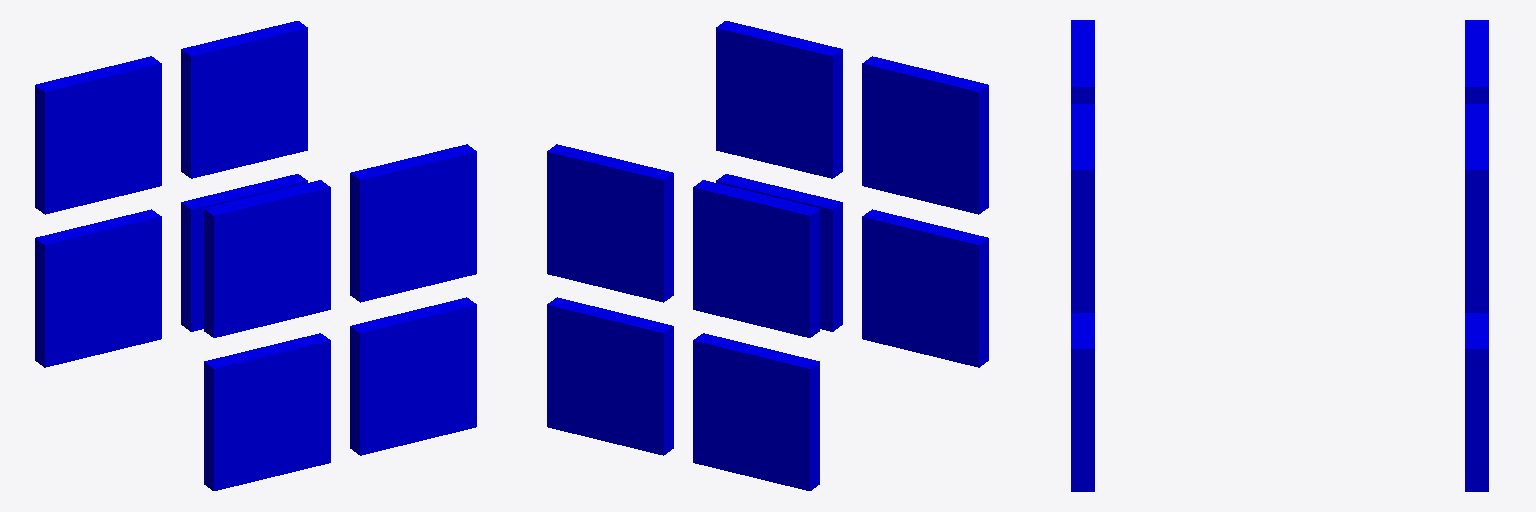
URDF robot description (vx300):
<?xml version="1.0" ?>
<!-- =================================================================================== -->
<!-- |    This document was autogenerated by xacro from vx300.urdf.xacro               | -->
<!-- |    EDITING THIS FILE BY HAND IS NOT RECOMMENDED                                 | -->
<!-- =================================================================================== -->
<robot name="vx300">
  <!-- <material name="interbotix_black">
    <texture filename="meshes/interbotix_black.png"/>
  </material> -->
  <link name="vx300/base_link">
    <visual>
      <origin rpy="0 0 1.5707963267948966" xyz="0 0 0"/>
      <geometry>
        <mesh filename="meshes/vx300_meshes/vx300_1_base.stl" scale="0.001 0.001 0.001"/>
      </geometry>
    </visual>
    <collision>
      <origin rpy="0 0 1.5707963267948966" xyz="0 0 0"/>
      <geometry>
        <mesh filename="meshes/vx300_meshes/vx300_1_base.stl" scale="0.001 0.001 0.001"/>
      </geometry>
    </collision>
    <inertial>
      <origin rpy="0 0 1.5707963267948966" xyz="-0.0534774000 -0.0005625750 0.0205961000"/>
      <mass value="0.969034"/>
      <inertia ixx="0.0060240000" ixy="0.0000471300" ixz="0.0000038510" iyy="0.0017000000" iyz="-0.0000841500" izz="0.0071620000"/>
    </inertial>
  </link>
  <joint name="waist" type="revolute">
    <axis xyz="0 0 1"/>
    <limit effort="30" lower="-3.141582653589793" upper="3.141582653589793" velocity="3.141592653589793"/>
    <origin rpy="0 0 0" xyz="0 0 0.079"/>
    <parent link="vx300/base_link"/>
    <child link="vx300/shoulder_link"/>
    <dynamics friction="0.1"/>
  </joint>

  <link name="vx300/shoulder_link">
    <visual>
      <origin rpy="0 0 1.5707963267948966" xyz="0 0 -0.003"/>
      <geometry>
        <mesh filename="meshes/vx300_meshes/vx300_2_shoulder.stl" scale="0.001 0.001 0.001"/>
      </geometry>
    </visual>
    <collision>
      <origin rpy="0 0 1.5707963267948966" xyz="0 0 -0.003"/>
      <geometry>
        <mesh filename="meshes/vx300_meshes/vx300_2_shoulder.stl" scale="0.001 0.001 0.001"/>
      </geometry>
    </collision>
    <inertial>
      <origin rpy="0 0 1.5707963267948966" xyz="0.0002592330 -0.0000033552 0.0116129000"/>
      <mass value="0.798614"/>
      <inertia ixx="0.0009388000" ixy="-0.0000000010" ixz="-0.0000000191" iyy="0.0011380000" iyz="0.0000059568" izz="0.0012010000"/>
    </inertial>
  </link>
  <joint name="shoulder" type="revolute">
    <axis xyz="0 1 0"/>
    <limit effort="20" lower="-1.8500490071139892" upper="1.2566370614359172" velocity="3.141592653589793"/>
    <origin rpy="0 0 0" xyz="0 0 0.04805"/>
    <parent link="vx300/shoulder_link"/>
    <child link="vx300/upper_arm_link"/>
    <dynamics friction="0.1"/>
  </joint>
  <link name="vx300/upper_arm_link">
    <visual>
      <origin rpy="0 0 1.5707963267948966" xyz="0 0 0"/>
      <geometry>
        <mesh filename="meshes/vx300_meshes/vx300_3_upper_arm.stl" scale="0.001 0.001 0.001"/>
      </geometry>
    </visual>
    <collision>
      <origin rpy="0 0 1.5707963267948966" xyz="0 0 0"/>
      <geometry>
        <mesh filename="meshes/vx300_meshes/vx300_3_upper_arm.stl" scale="0.001 0.001 0.001"/>
      </geometry>
    </collision>
    <inertial>
      <origin rpy="0 0 1.5707963267948966" xyz="0.0206949000 0.0000000004 0.2264590000"/>
      <mass value="0.792592"/>
      <inertia ixx="0.0089250000" ixy="0.0000000000" ixz="0.0000000000" iyy="0.0089370000" iyz="0.0012010000" izz="0.0009357000"/>
    </inertial>
  </link>
  <joint name="elbow" type="revolute">
    <axis xyz="0 1 0"/>
    <limit effort="15" lower="-1.7627825445142729" upper="1.6057029118347832" velocity="3.141592653589793"/>
    <origin rpy="0 0 0" xyz="0.05955 0 0.3"/>
    <parent link="vx300/upper_arm_link"/>
    <child link="vx300/forearm_link"/>
    <dynamics friction="0.1"/>
  </joint>
  <link name="vx300/forearm_link">
    <visual>
      <origin rpy="0 0 1.5707963267948966" xyz="0 0 0"/>
      <geometry>
        <mesh filename="meshes/vx300_meshes/vx300_4_forearm.stl" scale="0.001 0.001 0.001"/>
      </geometry>
    </visual>
    <collision>
      <origin rpy="0 0 1.5707963267948966" xyz="0 0 0"/>
      <geometry>
        <mesh filename="meshes/vx300_meshes/vx300_4_forearm.stl" scale="0.001 0.001 0.001"/>
      </geometry>
    </collision>
    <inertial>
      <origin rpy="0 0 1.5707963267948966" xyz="0.1812650000 -0.0002065037 0.0000000000"/>
      <mass value="0.544659"/>
      <inertia ixx="0.0054470000" ixy="-0.0000119800" ixz="0.0000000000" iyy="0.0002267000" iyz="0.0000000000" izz="0.0055740000"/>
    </inertial>
  </link>
  <joint name="wrist_angle" type="revolute">
    <axis xyz="0 1 0"/>
    <limit effort="5" lower="-1.8675022996339325" upper="2.234021442552742" velocity="3.141592653589793"/>
    <origin rpy="0 0 0" xyz="0.3 0 0"/>
    <parent link="vx300/forearm_link"/>
    <child link="vx300/wrist_link"/>
    <dynamics friction="0.1"/>
  </joint>
  <link name="vx300/wrist_link">
    <visual>
      <origin rpy="0 0 1.5707963267948966" xyz="0 0 0"/>
      <geometry>
        <mesh filename="meshes/vx300_meshes/vx300_5_wrist.stl" scale="0.001 0.001 0.001"/>
      </geometry>
    </visual>
    <collision>
      <origin rpy="0 0 1.5707963267948966" xyz="0 0 0"/>
      <geometry>
        <mesh filename="meshes/vx300_meshes/vx300_5_wrist.stl" scale="0.001 0.001 0.001"/>
      </geometry>
    </collision>
    <inertial>
      <origin rpy="0 0 1.5707963267948966" xyz="0.0467430000 -0.0000076652 0.0105650000"/>
      <mass value="0.115395"/>
      <inertia ixx="0.0000463100" ixy="0.0000000195" ixz="0.0000000023" iyy="0.0000451400" iyz="0.0000042002" izz="0.0000527000"/>
    </inertial>
  </link>
  <joint name="wrist_rotate" type="revolute">
    <axis xyz="1 0 0"/>
    <limit effort="1" lower="-3.141582653589793" upper="3.141582653589793" velocity="3.141592653589793"/>
    <origin rpy="0 0 0" xyz="0.069744 0 0"/>
    <parent link="vx300/wrist_link"/>
    <child link="vx300/gripper_link"/>
    <dynamics friction="0.1"/>
  </joint>
  <link name="vx300/gripper_link">
    <visual>
      <origin rpy="0 0 1.5707963267948966" xyz="-0.02 0 0"/>
      <geometry>
        <mesh filename="meshes/vx300_meshes/vx300_6_gripper.stl" scale="0.001 0.001 0.001"/>
      </geometry>
    </visual>
    <collision>
      <origin rpy="0 0 1.5707963267948966" xyz="-0.02 0 0"/>
      <geometry>
        <mesh filename="meshes/vx300_meshes/vx300_6_gripper.stl" scale="0.001 0.001 0.001"/>
      </geometry>
    </collision>
    <inertial>
      <origin rpy="0 0 1.5707963267948966" xyz="0.0230010000 0.0000000000 0.0115230000"/>
      <mass value="0.097666"/>
      <inertia ixx="0.0000326800" ixy="0.0000000000" ixz="0.0000000000" iyy="0.0000243600" iyz="0.0000002785" izz="0.0000211900"/>
    </inertial>
  </link>
  <joint name="ee_arm" type="fixed">
    <axis xyz="1 0 0"/>
    <origin rpy="0 0 0" xyz="0.042825 0 0"/>
    <parent link="vx300/gripper_link"/>
    <child link="vx300/ee_arm_link"/>
  </joint>
  <link name="vx300/ee_arm_link">
    <inertial>
      <mass value="0.001"/>
      <inertia ixx="0.0001" ixy="0" ixz="0" iyy="0.0001" iyz="0" izz="0.0001"/>
    </inertial>
  </link>
  <joint name="gripper" type="fixed">
    <axis xyz="1 0 0"/>
    <limit effort="1" velocity="3.141592653589793"/>
    <origin rpy="0 0 0" xyz="0.005675 0 0"/>
    <parent link="vx300/ee_arm_link"/>
    <child link="vx300/gripper_prop_link"/>
    <dynamics friction="0.1"/>
  </joint>
  <link name="vx300/gripper_prop_link">
    <visual>
      <origin rpy="0 0 1.5707963267948966" xyz="-0.0685 0 0"/>
      <geometry>
        <mesh filename="meshes/vx300_meshes/vx300_7_gripper_prop.stl" scale="0.001 0.001 0.001"/>
      </geometry>
    </visual>
    <collision>
      <origin rpy="0 0 1.5707963267948966" xyz="-0.0685 0 0"/>
      <geometry>
        <mesh filename="meshes/vx300_meshes/vx300_7_gripper_prop.stl" scale="0.001 0.001 0.001"/>
      </geometry>
    </collision>
    <inertial>
      <origin rpy="0 0 1.5707963267948966" xyz="0.0023780000 0.0000000285 0.0000000000"/>
      <mass value="0.008009"/>
      <inertia ixx="0.0000020386" ixy="0.0000000000" ixz="0.0000006559" iyy="0.0000042979" iyz="0.0000000000" izz="0.0000023796"/>
    </inertial>
  </link>
  <!-- If the AR tag is being used, then add the AR tag mount -->
  <!-- If the gripper bar is being used, then also add the gripper bar -->
  <joint name="gripper_bar" type="fixed">
    <axis xyz="1 0 0"/>
    <origin rpy="0 0 0" xyz="0 0 0"/>
    <parent link="vx300/ee_arm_link"/>
    <child link="vx300/gripper_bar_link"/>
  </joint>
  <link name="vx300/gripper_bar_link">
    <visual>
      <origin rpy="0 0 1.5707963267948966" xyz="-0.063 0 0"/>
      <geometry>
        <mesh filename="meshes/vx300_meshes/vx300_8_gripper_bar.stl" scale="0.001 0.001 0.001"/>
      </geometry>
    </visual>
    <collision>
      <origin rpy="0 0 1.5707963267948966" xyz="-0.063 0 0"/>
      <geometry>
        <mesh filename="meshes/vx300_meshes/vx300_8_gripper_bar.stl" scale="0.001 0.001 0.001"/>
      </geometry>
    </collision>
    <inertial>
      <origin rpy="0 0 1.5707963267948966" xyz="0.0067940000 -0.0000004272 -0.0007760000"/>
      <mass value="0.150986"/>
      <inertia ixx="0.0000789500" ixy="-0.0000000012" ixz="0.0000001341" iyy="0.0003283000" iyz="0.0000017465" izz="0.0003095000"/>
    </inertial>
  </link>
  <joint name="ee_bar" type="fixed">
    <axis xyz="1 0 0"/>
    <origin rpy="0 0 0" xyz="0.025875 0 0"/>
    <parent link="vx300/gripper_bar_link"/>
    <child link="vx300/fingers_link"/>
  </joint>
  <link name="vx300/fingers_link">
    <inertial>
      <mass value="0.001"/>
      <inertia ixx="0.0001" ixy="0" ixz="0" iyy="0.0001" iyz="0" izz="0.0001"/>
    </inertial>
  </link>
  <!-- If the gripper fingers are being used, add those as well -->
  <joint name="left_finger" type="prismatic">
    <axis xyz="0 1 0"/>
    <limit effort="1" lower="0.021" upper="0.057" velocity="3.14"/>
    <origin rpy="0 0 0" xyz="0 0 0"/>
    <parent link="vx300/fingers_link"/>
    <child link="vx300/left_finger_link"/>
    <dynamics friction="0.1"/>
  </joint>
  <link name="vx300/left_finger_link">
    <visual>
      <origin rpy="1.5707963267948966 -3.141592653589793 1.5707963267948966" xyz="-0.0404 -0.0575 0"/>
      <geometry>
        <mesh filename="meshes/vx300_meshes/vx300_9_gripper_finger.stl" scale="0.001 0.001 0.001"/>
      </geometry>
    </visual>
    <collision>
      <origin rpy="1.5707963267948966 -3.141592653589793 1.5707963267948966" xyz="-0.0404 -0.0575 0"/>
      <geometry>
        <mesh filename="meshes/vx300_meshes/vx300_9_gripper_finger.stl" scale="0.001 0.001 0.001"/>
      </geometry>
    </collision>
    <inertial>
      <origin rpy="3.141592653589793 3.141592653589793 1.5707963267948966" xyz="0.0173440000 -0.0060692000 0.0000000000"/>
      <!-- <mass value="0.034796"/> -->
      <mass value="0.001"/>
      <inertia ixx="0.0000243300" ixy="-0.0000024004" ixz="0.0000000000" iyy="0.0000125500" iyz="0.0000000000" izz="0.0000141700"/>
    </inertial>
  </link>
  
  <!-- ====================================If the tactile sensors are being used, add those as well ======================================-->
  <joint name="left_tactile_1" type="fixed">
    <axis xyz="1 0 0"/>
    <origin rpy="0 0 1.5707" xyz="0 0 0"/>
    <parent link="vx300/left_finger_link"/>
    <child link="vx300/left_tactile_map_link1"/>
  </joint>
  <link name="vx300/left_tactile_map_link1">
    <visual>
      <origin rpy="0 0 0" xyz="-0.014 -0.045 -0.0125"/>
      <geometry>
        <box size="0.003001 0.02 0.02"/>
      </geometry>
      <material name="blue">
        <color rgba= "0 0 1 1"/>
      </material>
    </visual>
    <collision>
      <origin rpy="0 0 0" xyz="-0.014 -0.045 -0.0125"/>
      <geometry>
        <box size="0.003001 0.02 0.02"/>
      </geometry>
    </collision>
    <inertial>
      <origin rpy="3.141592653589793 3.141592653589793 1.5707963267948966" xyz="0.0173440000 -0.0060692000 0.0000000000"/>
      <!-- <mass value="0.034796"/> -->
      <mass value="0.0005"/>
      <inertia ixx="0.0000243300" ixy="-0.0000024004" ixz="0.0000000000" iyy="0.0000125500" iyz="0.0000000000" izz="0.0000141700"/>
    </inertial>
  </link>

  <joint name="left_tactile_2" type="fixed">
    <axis xyz="1 0 0"/>
    <origin rpy="0 0 1.5707" xyz="0 0 0"/>
    <parent link="vx300/left_finger_link"/>
    <child link="vx300/left_tactile_map_link2"/>
  </joint>
  <link name="vx300/left_tactile_map_link2">
    <visual>
      <origin rpy="0 0 0" xyz="-0.014 -0.045 0.0125"/>
      <geometry>
        <box size="0.003001 0.02 0.02"/>
      </geometry>
      <material name="blue">
        <color rgba= "0 0 1 1"/>
      </material>
    </visual>
    <collision>
      <origin rpy="0 0 0" xyz="-0.014 -0.045 0.0125"/>
      <geometry>
        <box size="0.003001 0.02 0.02"/>
      </geometry>
    </collision>
    <inertial>
      <origin rpy="3.141592653589793 3.141592653589793 1.5707963267948966" xyz="0.0173440000 -0.0060692000 0.0000000000"/>
      <!-- <mass value="0.034796"/> -->
      <mass value="0.0005"/>
      <inertia ixx="0.0000243300" ixy="-0.0000024004" ixz="0.0000000000" iyy="0.0000125500" iyz="0.0000000000" izz="0.0000141700"/>
    </inertial>
  </link>

  <joint name="left_tactile_3" type="fixed">
    <axis xyz="1 0 0"/>
    <origin rpy="0 0 1.5707" xyz="0 0 0"/>
    <parent link="vx300/left_finger_link"/>
    <child link="vx300/left_tactile_map_link3"/>
  </joint>
  <link name="vx300/left_tactile_map_link3">
    <visual>
      <origin rpy="0 0 0" xyz="-0.014 -0.02 -0.0125"/>
      <geometry>
        <box size="0.003001 0.02 0.02"/>
      </geometry>
      <material name="blue">
        <color rgba= "0 0 1 1"/>
      </material>
    </visual>
    <collision>
      <origin rpy="0 0 0" xyz="-0.014 -0.02 -0.0125"/>
      <geometry>
        <box size="0.003001 0.02 0.02"/>
      </geometry>
    </collision>
    <inertial>
      <origin rpy="3.141592653589793 3.141592653589793 1.5707963267948966" xyz="0.0173440000 -0.0060692000 0.0000000000"/>
      <!-- <mass value="0.034796"/> -->
      <mass value="0.0005"/>
      <inertia ixx="0.0000243300" ixy="-0.0000024004" ixz="0.0000000000" iyy="0.0000125500" iyz="0.0000000000" izz="0.0000141700"/>
    </inertial>
  </link>

  <joint name="left_tactile_4" type="fixed">
    <axis xyz="1 0 0"/>
    <origin rpy="0 0 1.5707" xyz="0 0 0"/>
    <parent link="vx300/left_finger_link"/>
    <child link="vx300/left_tactile_map_link4"/>
  </joint>
  <link name="vx300/left_tactile_map_link4">
    <visual>
      <origin rpy="0 0 0" xyz="-0.014 -0.02 0.0125"/>
      <geometry>
        <box size="0.003001 0.02 0.02"/>
      </geometry>
      <material name="blue">
        <color rgba= "0 0 1 1"/>
      </material>
    </visual>
    <collision>
      <origin rpy="0 0 0" xyz="-0.014 -0.02 0.0125"/>
      <geometry>
        <box size="0.003001 0.02 0.02"/>
      </geometry>
    </collision>
    <inertial>
      <origin rpy="3.141592653589793 3.141592653589793 1.5707963267948966" xyz="0.0173440000 -0.0060692000 0.0000000000"/>
      <!-- <mass value="0.034796"/> -->
      <mass value="0.0005"/>
      <inertia ixx="0.0000243300" ixy="-0.0000024004" ixz="0.0000000000" iyy="0.0000125500" iyz="0.0000000000" izz="0.0000141700"/>
    </inertial>
  </link>

  <!-- ====================================If the tactile sensors are being used, add those as well ======================================-->

  <joint name="right_finger" type="prismatic">
    <axis xyz="0 1 0"/>
    <limit effort="1" lower="-0.057" upper="-0.021" velocity="3.14"/>
    <origin rpy="0 0 0" xyz="0 0 0"/>
    <parent link="vx300/fingers_link"/>
    <child link="vx300/right_finger_link"/>
    <dynamics friction="0.1"/>
    <mimic joint="left_finger" multiplier="-1" offset="0"/>
  </joint>
  <link name="vx300/right_finger_link">
    <visual>
      <origin rpy="-1.5707963267948966 3.141592653589793 -1.5707963267948966" xyz="-0.0404 0.0575 0 "/>
      <geometry>
        <mesh filename="meshes/vx300_meshes/vx300_9_gripper_finger.stl" scale="0.001 0.001 0.001"/>
      </geometry>
    </visual>
    <collision>
      <origin rpy="-1.5707963267948966 3.141592653589793 -1.5707963267948966" xyz="-0.0404 0.0575 0 "/>
      <geometry>
        <mesh filename="meshes/vx300_meshes/vx300_9_gripper_finger.stl" scale="0.001 0.001 0.001"/>
      </geometry>
    </collision>
    <inertial>
      <origin rpy="0 3.141592653589793 1.5707963267948966" xyz="0.0173440000 0.0060692000  0.0000000000"/>
      <!-- <mass value="0.034796"/> -->
      <mass value="0.001"/>
      <inertia ixx="0.0000243300" ixy="0.0000024001" ixz="0.0000000000" iyy="0.0000125500" iyz="0.0000000000" izz="0.0000141700"/>
    </inertial>
  </link>

  <!-- ====================================If the tactile sensors are being used, add those as well ======================================-->

  <joint name="right_tactile_1" type="fixed">
    <axis xyz="1 0 0"/>
    <origin rpy="0 0 1.5707" xyz="0 0 0"/>
    <parent link="vx300/right_finger_link"/>
    <child link="vx300/right_tactile_map_link1"/>
  </joint>
  <link name="vx300/right_tactile_map_link1">
    <visual>
      <origin rpy="0 0 0" xyz="0.014 -0.045 -0.0125"/>
      <geometry>
        <box size="0.003001 0.02 0.02"/>
      </geometry>
      <material name="blue">
        <color rgba= "0 0 1 1"/>
      </material>
    </visual>
    <collision>
      <origin rpy="0 0 0" xyz="0.014 -0.045 -0.0125"/>
      <geometry>
        <box size="0.003001 0.02 0.02"/>
      </geometry>
    </collision>
    <inertial>
      <origin rpy="3.141592653589793 3.141592653589793 1.5707963267948966" xyz="0.0173440000 -0.0060692000 0.0000000000"/>
      <!-- <mass value="0.034796"/> -->
      <mass value="0.0005"/>
      <inertia ixx="0.0000243300" ixy="-0.0000024004" ixz="0.0000000000" iyy="0.0000125500" iyz="0.0000000000" izz="0.0000141700"/>
    </inertial>
  </link>

  <joint name="right_tactile_2" type="fixed">
    <axis xyz="1 0 0"/>
    <origin rpy="0 0 1.5707" xyz="0 0 0"/>
    <parent link="vx300/right_finger_link"/>
    <child link="vx300/right_tactile_map_link2"/>
  </joint>
  <link name="vx300/right_tactile_map_link2">
    <visual>
      <origin rpy="0 0 0" xyz="0.014 -0.045 0.0125"/>
      <geometry>
        <box size="0.003001 0.02 0.02"/>
      </geometry>
      <material name="blue">
        <color rgba= "0 0 1 1"/>
      </material>
    </visual>
    <collision>
      <origin rpy="0 0 0" xyz="0.014 -0.045 0.0125"/>
      <geometry>
        <box size="0.003001 0.02 0.02"/>
      </geometry>
    </collision>
    <inertial>
      <origin rpy="3.141592653589793 3.141592653589793 1.5707963267948966" xyz="0.0173440000 -0.0060692000 0.0000000000"/>
      <!-- <mass value="0.034796"/> -->
      <mass value="0.0005"/>
      <inertia ixx="0.0000243300" ixy="-0.0000024004" ixz="0.0000000000" iyy="0.0000125500" iyz="0.0000000000" izz="0.0000141700"/>
    </inertial>
  </link>

  <joint name="right_tactile_3" type="fixed">
    <axis xyz="1 0 0"/>
    <origin rpy="0 0 1.5707" xyz="0 0 0"/>
    <parent link="vx300/right_finger_link"/>
    <child link="vx300/right_tactile_map_link3"/>
  </joint>
  <link name="vx300/right_tactile_map_link3">
    <visual>
      <origin rpy="0 0 0" xyz="0.014 -0.02 -0.0125"/>
      <geometry>
        <box size="0.003001 0.02 0.02"/>
      </geometry>
      <material name="blue">
        <color rgba= "0 0 1 1"/>
      </material>
    </visual>
    <collision>
      <origin rpy="0 0 0" xyz="0.014 -0.02 -0.0125"/>
      <geometry>
        <box size="0.003001 0.02 0.02"/>
      </geometry>
    </collision>
    <inertial>
      <origin rpy="3.141592653589793 3.141592653589793 1.5707963267948966" xyz="0.0173440000 -0.0060692000 0.0000000000"/>
      <!-- <mass value="0.034796"/> -->
      <mass value="0.0005"/>
      <inertia ixx="0.0000243300" ixy="-0.0000024004" ixz="0.0000000000" iyy="0.0000125500" iyz="0.0000000000" izz="0.0000141700"/>
    </inertial>
  </link>

  <joint name="right_tactile_4" type="fixed">
    <axis xyz="1 0 0"/>
    <origin rpy="0 0 1.5707" xyz="0 0 0"/>
    <parent link="vx300/right_finger_link"/>
    <child link="vx300/right_tactile_map_link4"/>
  </joint>
  <link name="vx300/right_tactile_map_link4">
    <visual>
      <origin rpy="0 0 0" xyz="0.014 -0.02 0.0125"/>
      <geometry>
        <box size="0.003001 0.02 0.02"/>
      </geometry>
      <material name="blue">
        <color rgba= "0 0 1 1"/>
      </material>
    </visual>
    <collision>
      <origin rpy="0 0 0" xyz="0.014 -0.02 0.0125"/>
      <geometry>
        <box size="0.003001 0.02 0.02"/>
      </geometry>
    </collision>
    <inertial>
      <origin rpy="3.141592653589793 3.141592653589793 1.5707963267948966" xyz="0.0173440000 -0.0060692000 0.0000000000"/>
      <!-- <mass value="0.034796"/> -->
      <mass value="0.0005"/>
      <inertia ixx="0.0000243300" ixy="-0.0000024004" ixz="0.0000000000" iyy="0.0000125500" iyz="0.0000000000" izz="0.0000141700"/>
    </inertial>
  </link>

  <joint name="ee_gripper" type="fixed">
    <axis xyz="1 0 0"/>
    <origin rpy="0 0 0" xyz="0.0385 0 0"/>
    <parent link="vx300/fingers_link"/>
    <child link="vx300/ee_gripper_link"/>
  </joint>
  <link name="vx300/ee_gripper_link">
    <inertial>
      <mass value="0.001"/>
      <inertia ixx="0.0001" ixy="0" ixz="0" iyy="0.0001" iyz="0" izz="0.0001"/>
    </inertial>
  </link>
</robot>

--- What the picture shows (computed from the rendered views, not written in the file) ---
The picture shows the robot from 3 angles, left to right: view 1: azimuth 30°, elevation 25°; view 2: azimuth 150°, elevation 25°; view 3: azimuth 270°, elevation 25°; orthographic projection.
Robot: vx300 — 21 links, 20 joints (5 revolute, 2 prismatic, 13 fixed); root link vx300/base_link; default pose: joints at zero except 2 at the middle of their limits (left_finger = 0.039, right_finger = -0.039).
Visible links, largest first — view 1: vx300/left_tactile_map_link4, vx300/right_tactile_map_link1, vx300/left_tactile_map_link2, vx300/left_tactile_map_link3, vx300/right_tactile_map_link2, vx300/right_tactile_map_link3, vx300/right_tactile_map_link4, vx300/left_tactile_map_link1; view 2: vx300/left_tactile_map_link2, vx300/right_tactile_map_link3, vx300/left_tactile_map_link4, vx300/left_tactile_map_link1, vx300/left_tactile_map_link3, vx300/right_tactile_map_link2, vx300/right_tactile_map_link4, vx300/right_tactile_map_link1; view 3: vx300/left_tactile_map_link2, vx300/right_tactile_map_link2, vx300/left_tactile_map_link1, vx300/right_tactile_map_link1, vx300/left_tactile_map_link4, vx300/right_tactile_map_link4.
Boxes of the visible links, x1,y1,x2,y2 form: vx300/left_tactile_map_link4: (35,56,161,214); vx300/right_tactile_map_link1: (350,297,476,455); vx300/left_tactile_map_link2: (181,21,307,178); vx300/left_tactile_map_link3: (35,209,161,367); vx300/right_tactile_map_link2: (350,144,476,302); vx300/right_tactile_map_link3: (204,333,330,490); vx300/right_tactile_map_link4: (204,180,330,337); vx300/left_tactile_map_link1: (181,174,307,331); vx300/left_tactile_map_link2: (547,144,673,302); vx300/right_tactile_map_link3: (862,209,988,367); vx300/left_tactile_map_link4: (693,180,819,337); vx300/left_tactile_map_link1: (547,297,673,455); vx300/left_tactile_map_link3: (693,333,819,490); vx300/right_tactile_map_link2: (716,21,842,178); vx300/right_tactile_map_link4: (862,56,988,214); vx300/right_tactile_map_link1: (716,174,842,331); vx300/left_tactile_map_link2: (1465,104,1488,312); vx300/right_tactile_map_link2: (1071,104,1094,312); vx300/left_tactile_map_link1: (1465,313,1488,491); vx300/right_tactile_map_link1: (1071,313,1094,491); vx300/left_tactile_map_link4: (1465,20,1488,103); vx300/right_tactile_map_link4: (1071,20,1094,103).
Bounding box of the posed robot: 0.045 × 0.053 × 0.045 m (x, y, z).
Meshes: 9 distinct files referenced, 0 mesh visuals loaded (none loaded); not drawn: 10 (reference not matched to a file when rendering).